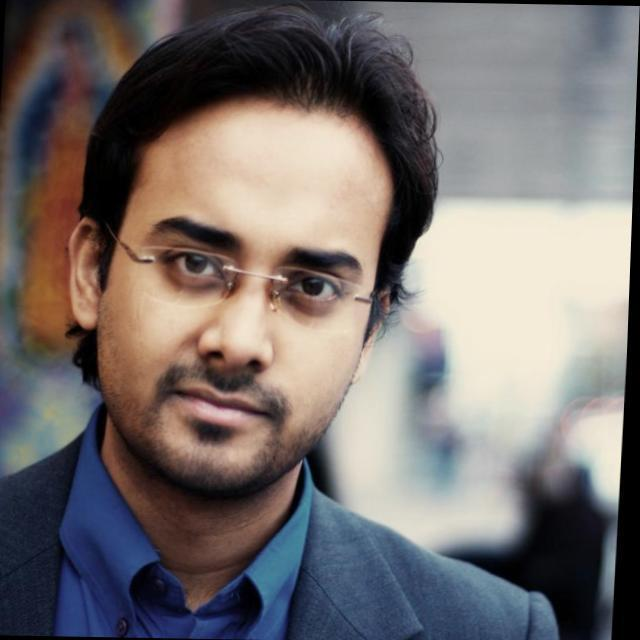puffy_eyes: (166, 262, 223, 296), (285, 294, 337, 323)
